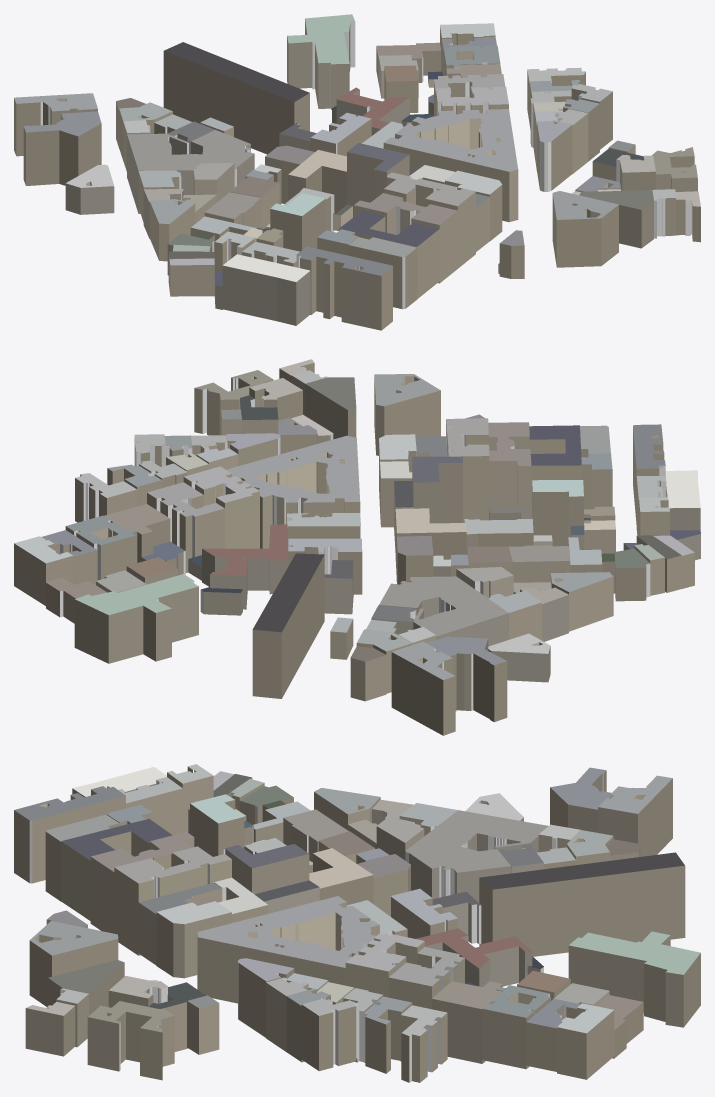
The picture shows the model from 3 angles, top to bottom: view 1: azimuth 30°, elevation 25°; view 2: azimuth 150°, elevation 25°; view 3: azimuth 270°, elevation 25°; orthographic projection. The views are drawn at different scales.
Parts seen in each view (by area): view 1: tuile; view 2: tuile; view 3: tuile.
Boxes of the visible parts, bbox=[...] form: tuile: bbox=[14, 14, 700, 330]; tuile: bbox=[14, 359, 700, 735]; tuile: bbox=[14, 764, 700, 1082].
Size of the model in its own units: 276 by 43.01 by 287.
